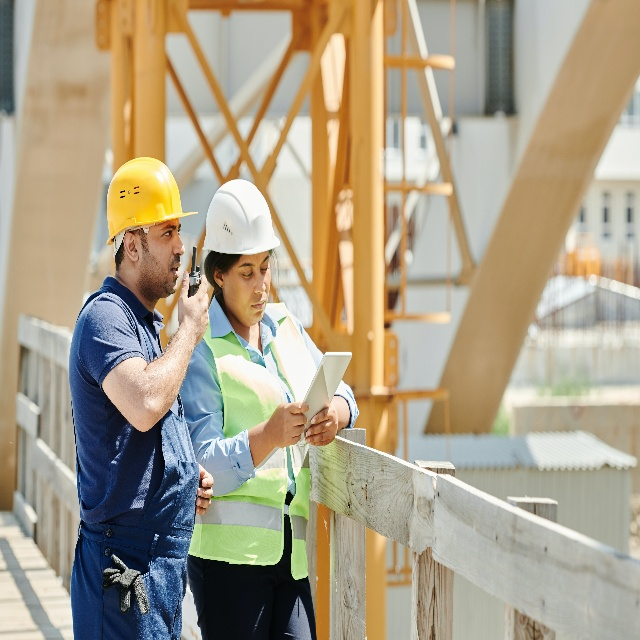Guantes: (101, 554, 149, 615)
Sin_guantes: (178, 269, 209, 346), (269, 402, 310, 449), (305, 402, 338, 447), (196, 463, 214, 516)
